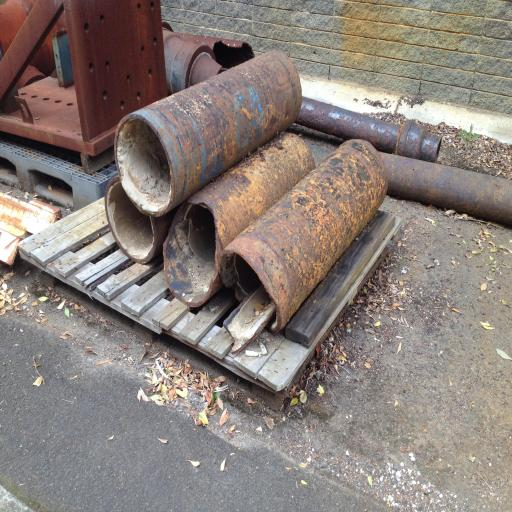segmentation: (223, 140, 387, 329), (115, 51, 301, 217), (187, 132, 315, 271), (64, 0, 167, 143), (380, 152, 512, 224), (296, 95, 440, 161), (0, 77, 115, 156), (0, 0, 64, 107), (163, 201, 222, 307), (0, 192, 61, 233)
